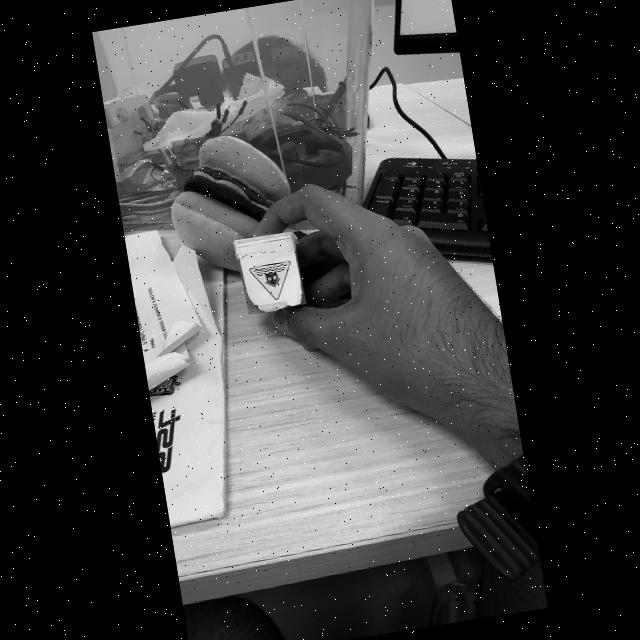Tsunami: (249, 261, 291, 299)
